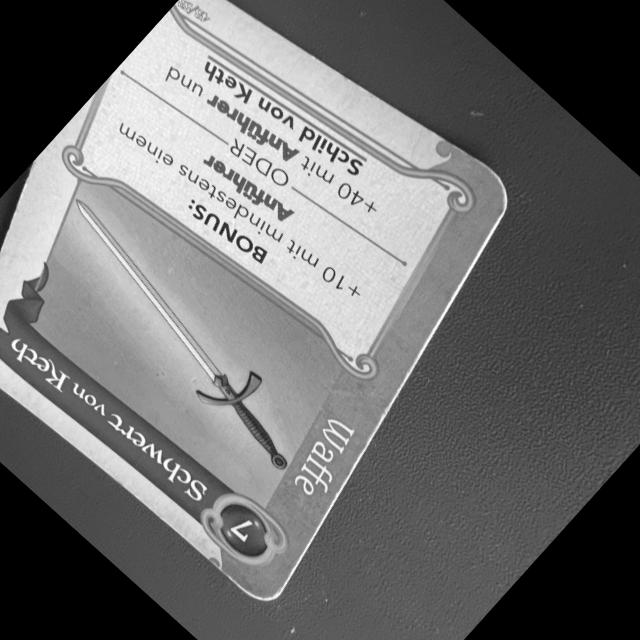Sword of Keth: (0, 0, 520, 611)
